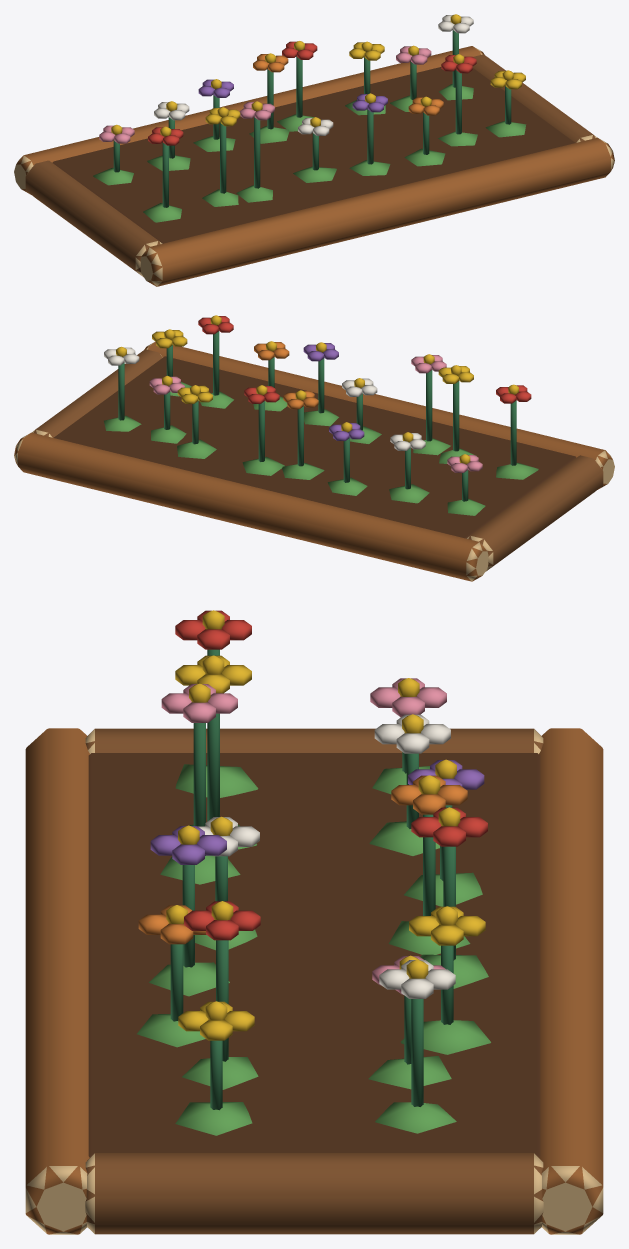
The model's file is deco_flowerbed.glb.
3 renders of one model, top to bottom at view 1: azimuth 30°, elevation 25°; view 2: azimuth 150°, elevation 25°; view 3: azimuth 270°, elevation 25°, orthographic. The views are drawn at different scales.
Parts seen in each view (by area): view 1: deco_flowerbed; view 2: deco_flowerbed; view 3: deco_flowerbed.
Boxes of the visible parts, box(x1,y1,x2,y2) form: deco_flowerbed: box(14, 14, 614, 286); deco_flowerbed: box(14, 315, 614, 581); deco_flowerbed: box(25, 610, 603, 1234).
Size of the model in its own units: 1.72 by 0.4465 by 0.9209.
